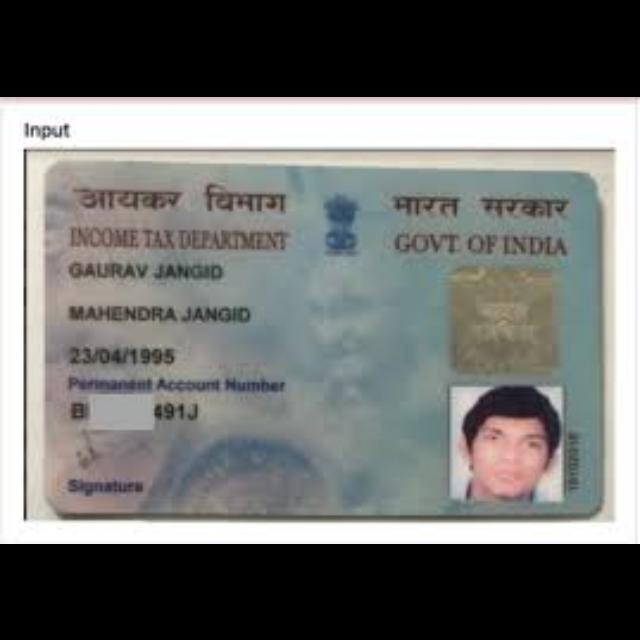pan: (37, 154, 608, 522)
